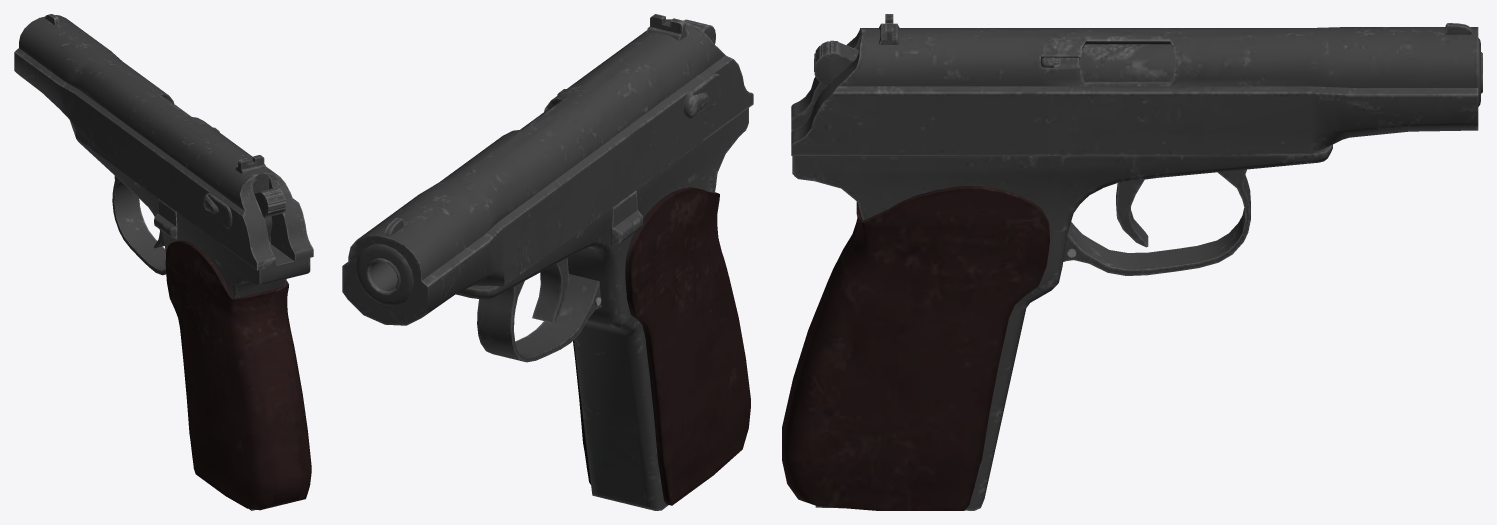
Rendered from Makarov.glb.
3 views of the same model, side by side, from view 1: azimuth 30°, elevation 25°; view 2: azimuth 150°, elevation 25°; view 3: azimuth 270°, elevation 25° (orthographic). The views are drawn at different scales.
Parts seen in each view (by area): view 1: Slide; view 2: Slide; view 3: Slide.
Boxes of the visible parts, x1,y1,x2,y2 form: Slide: (14,14,313,510); Slide: (342,14,753,510); Slide: (782,14,1482,510).
Size of the model in its own units: 0.0257 by 0.1253 by 0.1685.
Materials: 1 (1 with a texture image).
